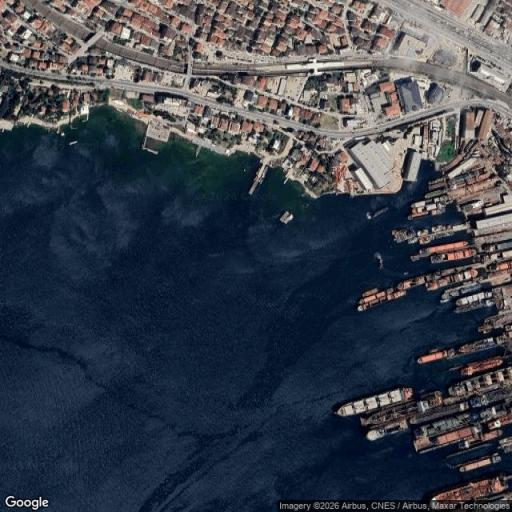ship: (361, 392, 442, 425), (335, 387, 413, 417), (413, 424, 482, 452), (432, 476, 507, 501), (448, 367, 511, 396), (415, 413, 479, 440), (409, 402, 469, 425), (411, 240, 468, 260), (425, 269, 479, 290), (358, 288, 405, 311), (366, 419, 408, 440), (396, 271, 441, 290), (460, 356, 503, 375), (457, 453, 501, 471), (441, 283, 481, 302), (458, 337, 499, 355), (461, 430, 503, 447), (431, 249, 476, 263), (453, 299, 494, 314), (455, 290, 492, 306), (417, 349, 455, 363), (392, 228, 417, 243), (489, 414, 511, 430), (367, 207, 388, 219), (424, 189, 447, 198), (407, 211, 430, 220), (411, 200, 431, 209), (280, 211, 293, 224), (429, 182, 445, 190), (419, 236, 432, 245), (432, 225, 444, 233), (413, 206, 425, 214), (432, 209, 445, 216), (417, 230, 430, 236), (261, 166, 267, 178), (443, 225, 454, 231), (69, 140, 78, 145), (258, 177, 263, 184)
